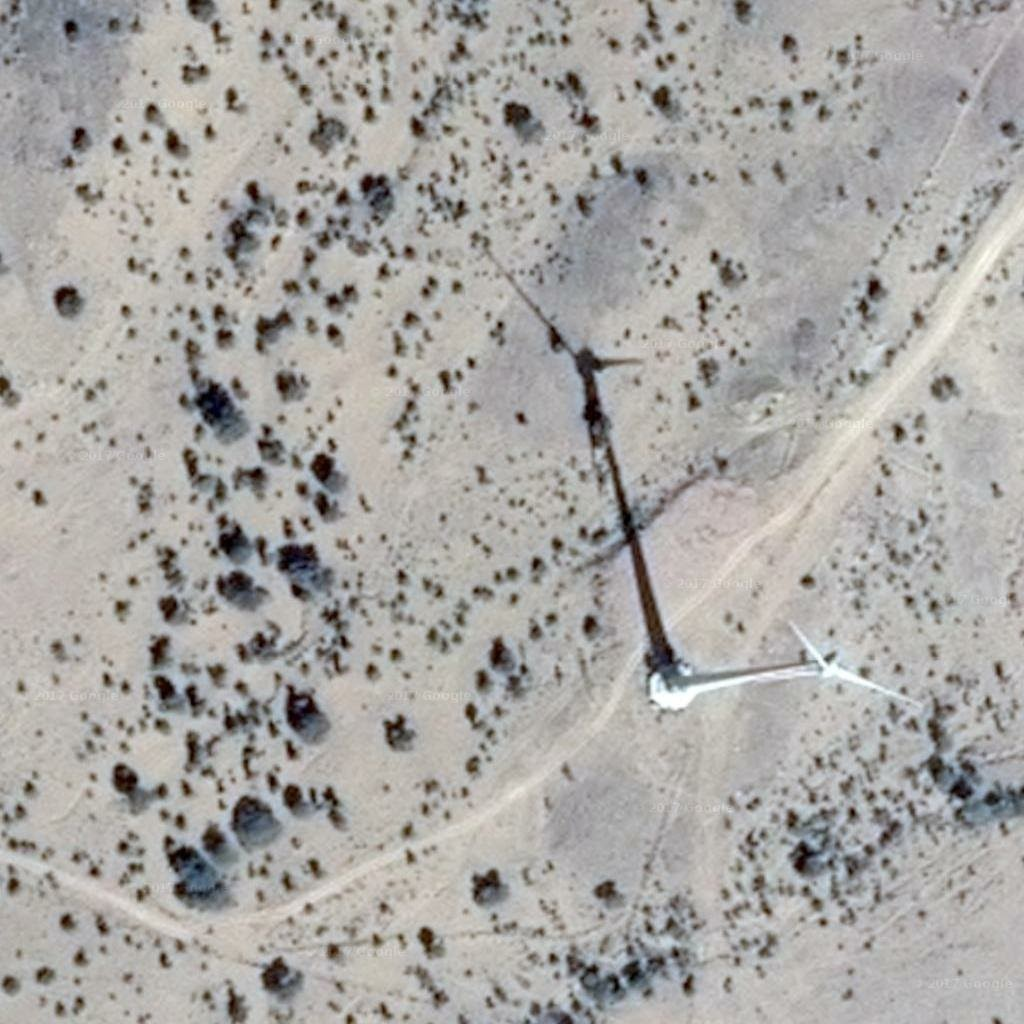Windmill: (486, 246, 688, 654)
